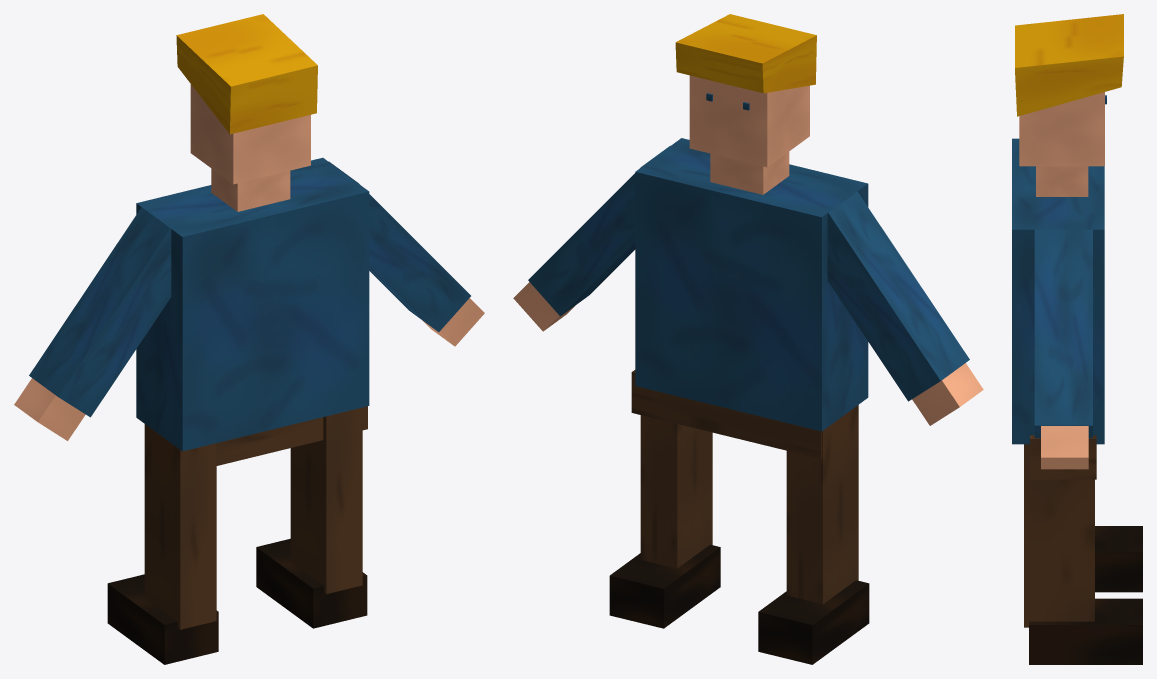
File: Player.dae
The picture shows the model from 3 angles, left to right: view 1: azimuth 30°, elevation 25°; view 2: azimuth 150°, elevation 25°; view 3: azimuth 270°, elevation 25°; orthographic projection.
Parts seen in each view (by area): view 1: Cube, Cube.007, Cube.002, Cube.010, Cube.001, Cube.009, Cube.006, Cube.005, Cube.004, Cube.003, Cube.008, Cube.012 (+1 smaller); view 2: Cube, Cube.007, Cube.002, Cube.001, Cube.010, Cube.009, Cube.006, Cube.005, Cube.004, Cube.003, Cube.008, Cube.012 (+1 smaller); view 3: Cube, Cube.006, Cube.001, Cube.010, Cube.004, Cube.009, Cube.005, Cube.011, Cube.008, Cube.003.
Part boxes in pixels (bbox=[...]): Cube: bbox=[136, 157, 369, 451]; Cube.007: bbox=[29, 207, 171, 417]; Cube.002: bbox=[144, 424, 216, 629]; Cube.010: bbox=[176, 14, 317, 134]; Cube.001: bbox=[290, 407, 362, 593]; Cube.009: bbox=[190, 84, 310, 184]; Cube.006: bbox=[329, 161, 470, 331]; Cube.005: bbox=[107, 574, 218, 664]; Cube.004: bbox=[256, 538, 367, 628]; Cube.003: bbox=[216, 406, 367, 465]; Cube.008: bbox=[211, 168, 290, 211]; Cube.012: bbox=[14, 378, 85, 440]; Cube: bbox=[635, 138, 868, 431]; Cube.007: bbox=[827, 191, 969, 401]; Cube.002: bbox=[786, 405, 858, 604]; Cube.001: bbox=[640, 415, 712, 568]; Cube.010: bbox=[675, 14, 816, 93]; Cube.009: bbox=[689, 75, 809, 167]; Cube.006: bbox=[528, 146, 669, 316]; Cube.005: bbox=[758, 580, 869, 664]; Cube.004: bbox=[609, 544, 720, 628]; Cube.003: bbox=[631, 370, 821, 458]; Cube.008: bbox=[710, 152, 789, 194]; Cube.012: bbox=[912, 363, 983, 425]; Cube: bbox=[1012, 138, 1104, 444]; Cube.006: bbox=[1034, 229, 1092, 438]; Cube.001: bbox=[1024, 444, 1094, 627]; Cube.010: bbox=[1015, 14, 1123, 116]; Cube.004: bbox=[1029, 598, 1142, 664]; Cube.009: bbox=[1019, 92, 1104, 166]; Cube.005: bbox=[1095, 526, 1142, 592]; Cube.011: bbox=[1041, 426, 1088, 469]; Cube.008: bbox=[1036, 166, 1088, 196]; Cube.003: bbox=[1030, 435, 1096, 479].
Bounding box in the file's own units: 2.49 × 0.63 × 3.09.
1 material, 1 textured.
